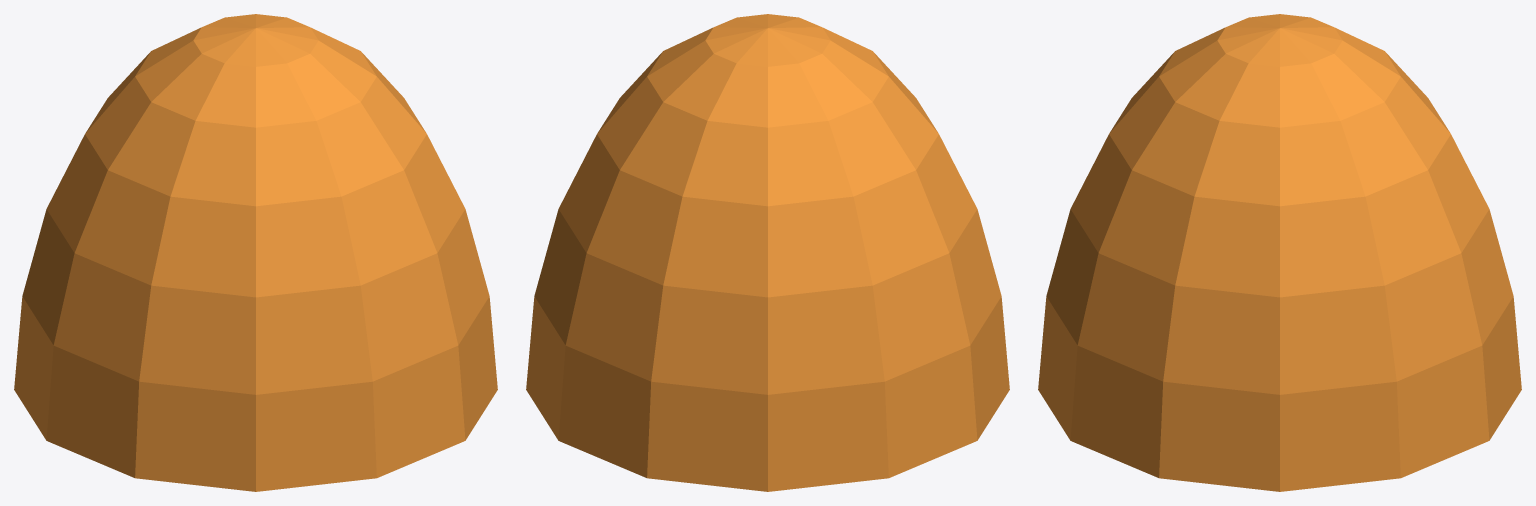
Rendered from 9mm Bullet_3DModel_3.fbx.
The picture shows the model from 3 angles, left to right: view 1: azimuth 30°, elevation 25°; view 2: azimuth 150°, elevation 25°; view 3: azimuth 270°, elevation 25°; orthographic projection.
Parts seen in each view (by area): view 1: Bullet; view 2: Bullet; view 3: Bullet.
Part boxes in pixels (<box>): Bullet: <box>14,14,497,491</box>; Bullet: <box>526,14,1009,491</box>; Bullet: <box>1038,14,1521,491</box>.
Size of the model in its own units: 0.02 by 0.0165 by 0.02.
